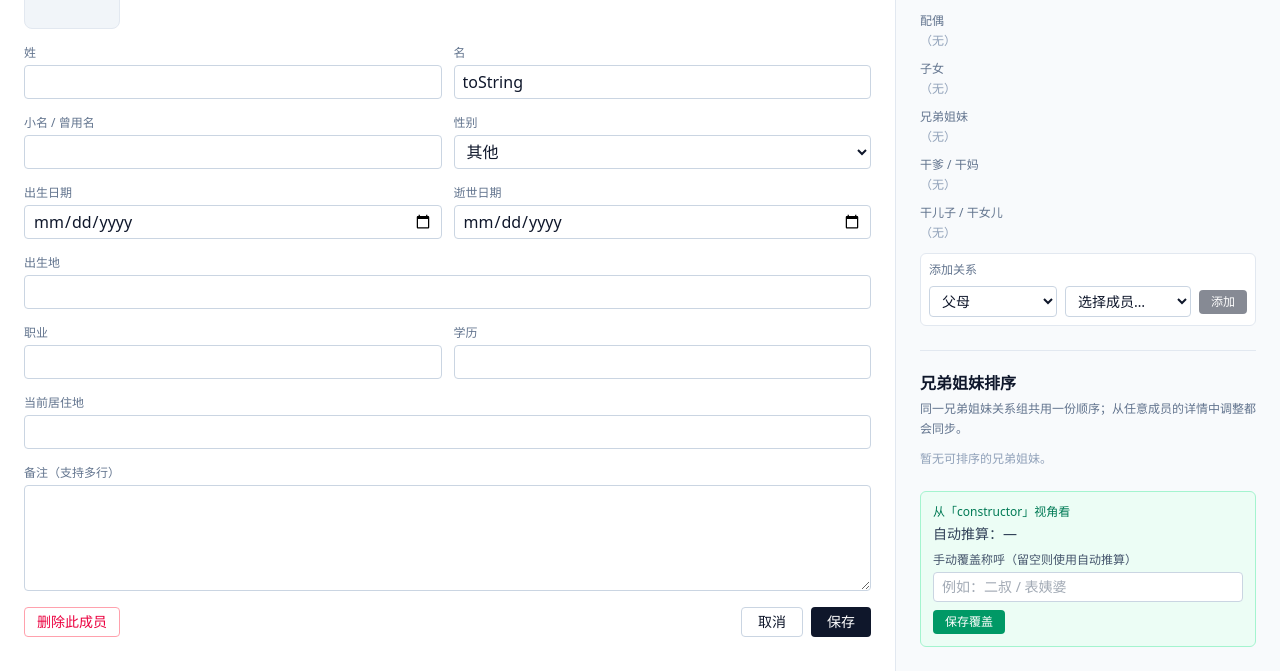
it: MemberDetail kinship override › shows only an own override for members whose IDs match prototype properties
(page scrolled)
Type "家人" into the field with placeholder "例如：二叔 / 表姨婆". click: (1088, 587)
box: [933, 572, 1243, 602]
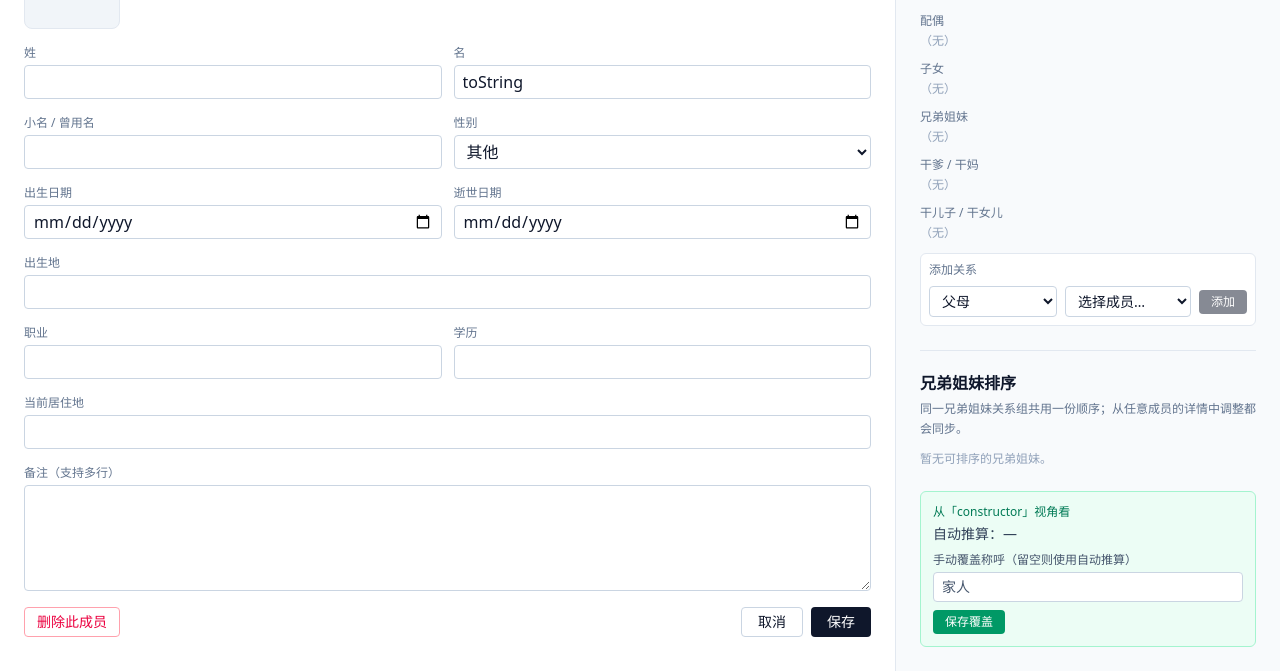
Click the button "保存覆盖". click: (969, 622)
box: [933, 610, 1005, 634]
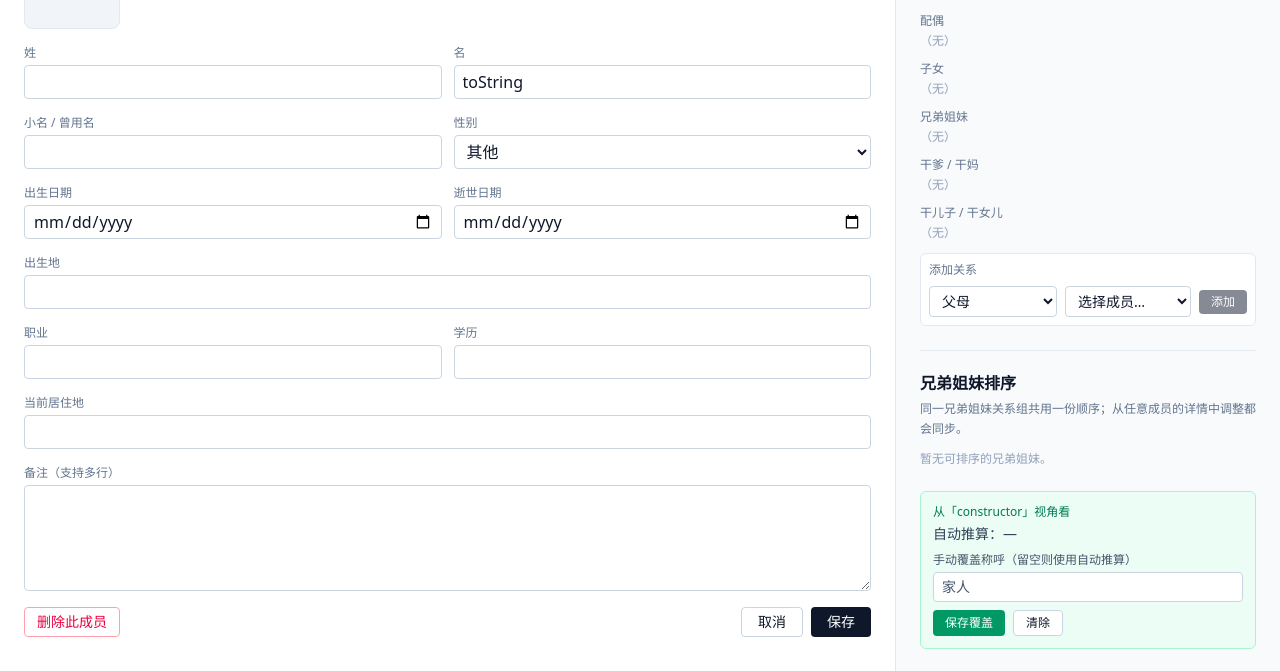
Click the button "清除". click: (1038, 623)
box: [1013, 610, 1063, 636]
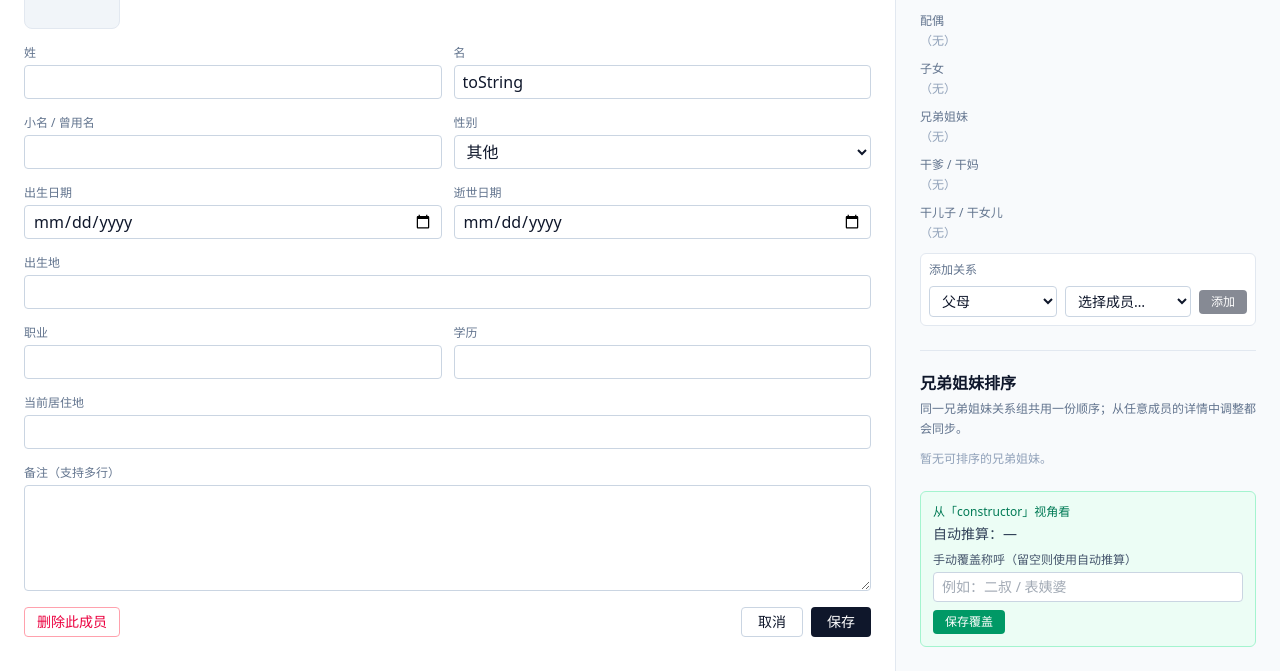
expect the field with placeholder "例如：二叔 / 表姨婆" is empty: met, box [933, 572, 1243, 602]
